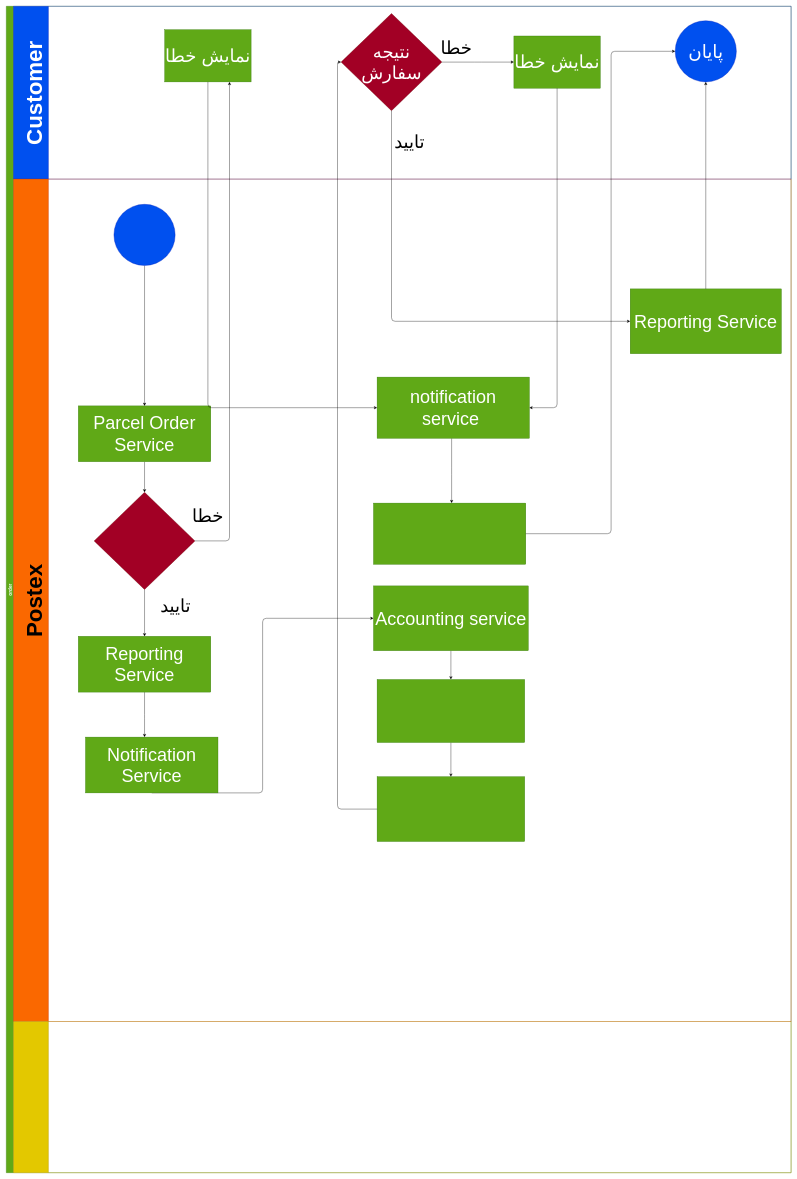
Some shapes in this 797 by 1179 pixel diagram are drawn without their labels. Each missing label, with the centre of its shape:
"Agent service" belongs at [451,809].
"Cantract service" belongs at [451,710].
"Other service" belongs at [402,1097].
"Ticeting service" belongs at [449,533].
"شروع" belongs at [144,235].
"وصعیت سفارش" belongs at [144,541].
